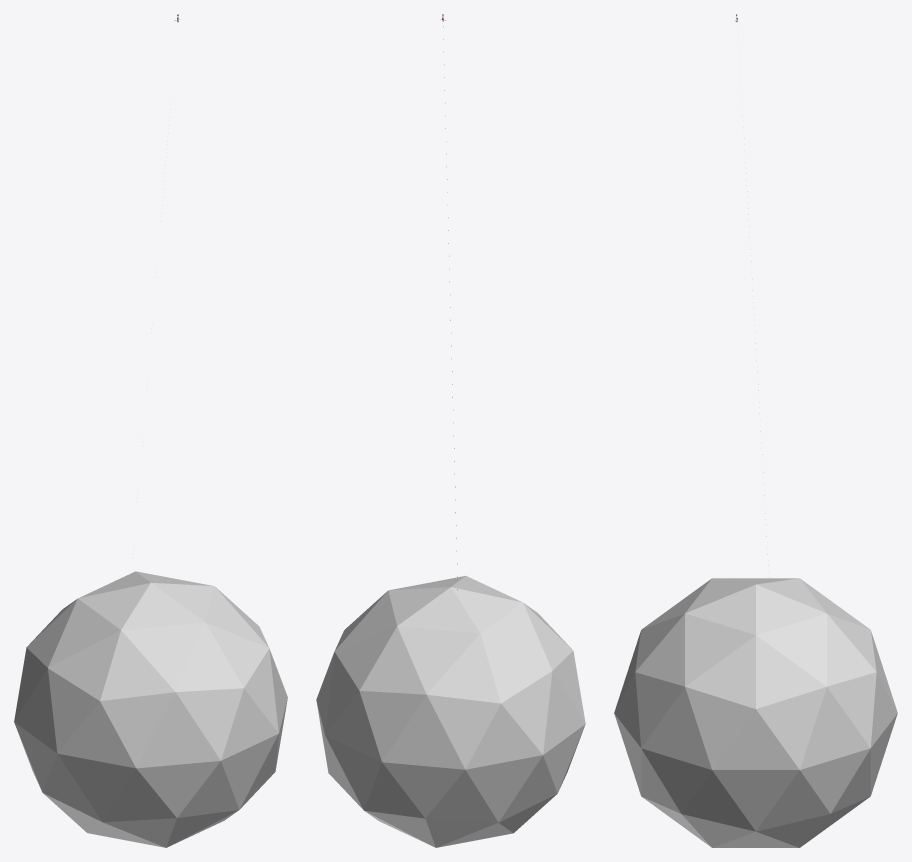
File: bulma_v2_10d396.fbx
The picture shows the model from 3 angles, left to right: view 1: azimuth 30°, elevation 25°; view 2: azimuth 150°, elevation 25°; view 3: azimuth 270°, elevation 25°; orthographic projection. The views are drawn at different scales.
Visible parts, largest first — view 1: Icosphere; view 2: Icosphere; view 3: Icosphere.
Part boxes in pixels (left/top/right/bottom): Icosphere: left=14, top=571, right=287, bottom=847; Icosphere: left=316, top=576, right=585, bottom=847; Icosphere: left=614, top=578, right=897, bottom=847.
Bounding box in the file's own units: 1.9 × 6.5 × 2.
Materials: 17 (17 with a texture image).
